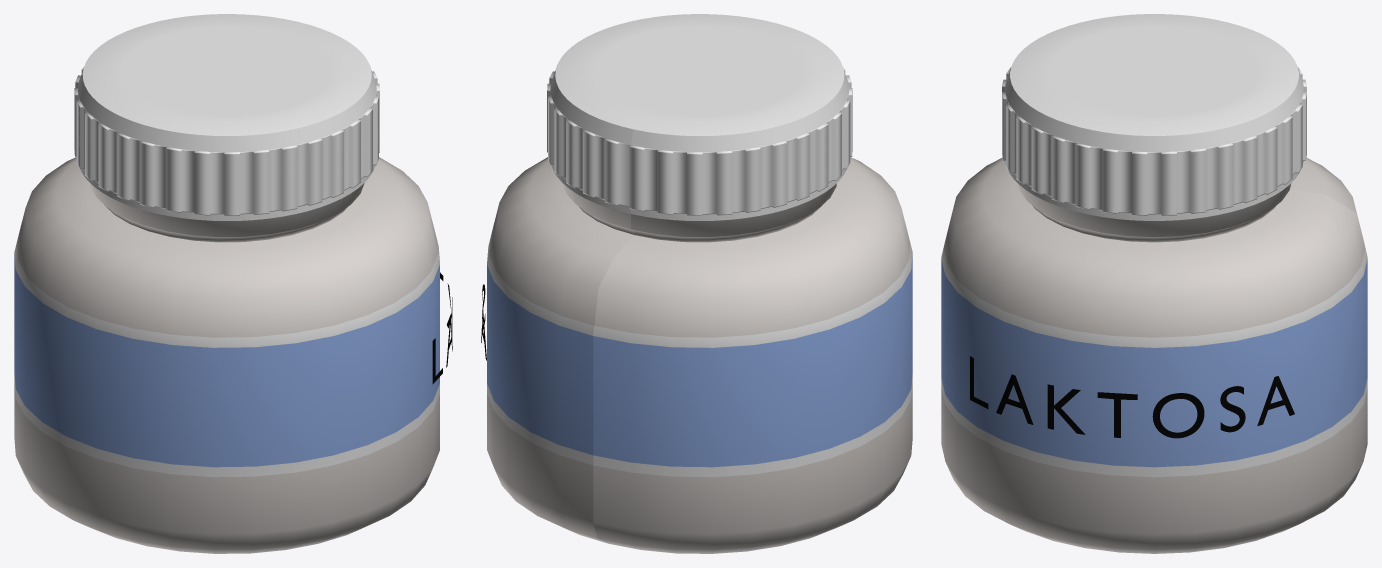
Rendered from botol_Laktosa.fbx.
3 renders of one model, left to right at view 1: azimuth 30°, elevation 25°; view 2: azimuth 150°, elevation 25°; view 3: azimuth 270°, elevation 25°, orthographic.
Visible parts, largest first — view 1: pill_bottle, pill_lid; view 2: pill_bottle, pill_lid; view 3: pill_bottle, pill_lid, Text.
Part boxes in pixels (x1,y1,x2,y2): pill_bottle: (14,157,439,553); pill_lid: (74,14,379,220); pill_bottle: (487,157,912,553); pill_lid: (547,14,852,220); pill_bottle: (941,157,1367,553); pill_lid: (1002,14,1306,220); Text: (970,356,1294,438).
Size of the model in its own units: 175 by 182 by 171.
